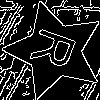R: (29, 25, 86, 75)
